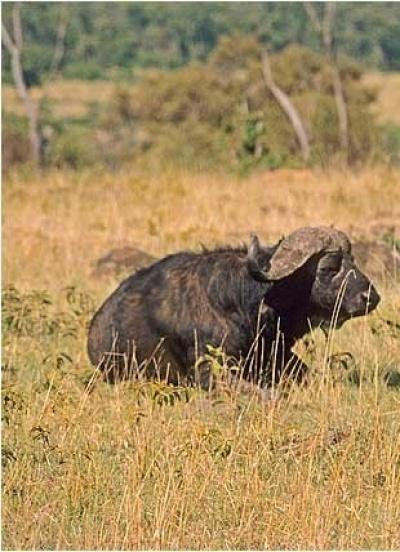buffalo: (87, 226, 381, 399)
